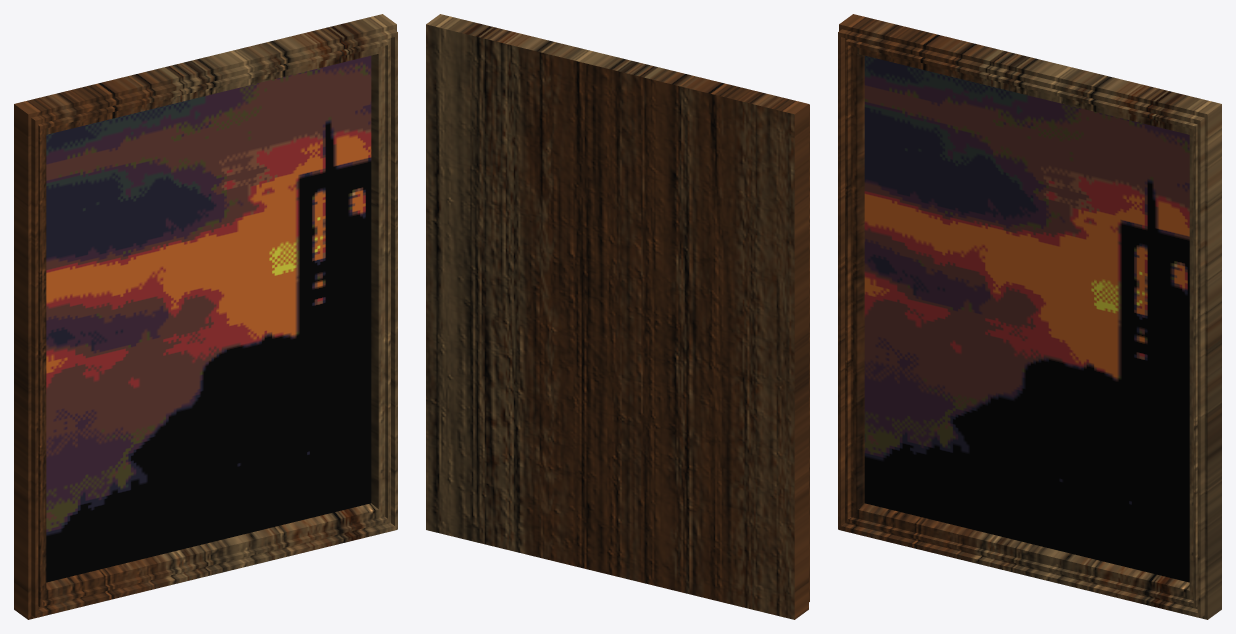
File: painting2_replace.fbx
3 views of the same model, side by side, from view 1: azimuth 30°, elevation 25°; view 2: azimuth 150°, elevation 25°; view 3: azimuth 330°, elevation 25° (orthographic).
Parts seen in each view (by area): view 1: Painting 3; view 2: Painting 3; view 3: Painting 3.
Part boxes in pixels (x1=…): Painting 3: x1=14, y1=14, x2=397, y2=619; Painting 3: x1=426, y1=14, x2=809, y2=619; Painting 3: x1=838, y1=14, x2=1221, y2=619.
Bounding box in the file's own units: 0.8127 × 0.0697 × 1.06.
